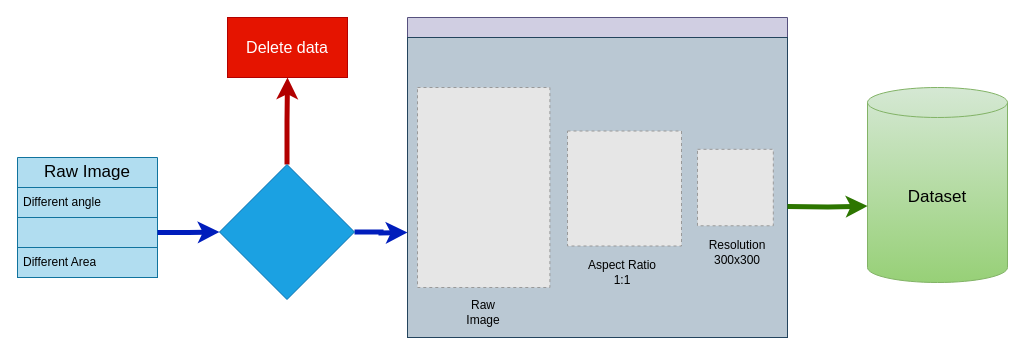
Some shapes in this 1025 by 355 pixel diagram are drawn without their labels. Grey dashed boxes stand in for pictures. Here are the shapes that lost their labels. From the top down, the box of each, then its label:
(406, 16, 788, 338): Raw Data Processing
(16, 216, 158, 248): Different Background
(218, 164, 354, 300): Usable?
